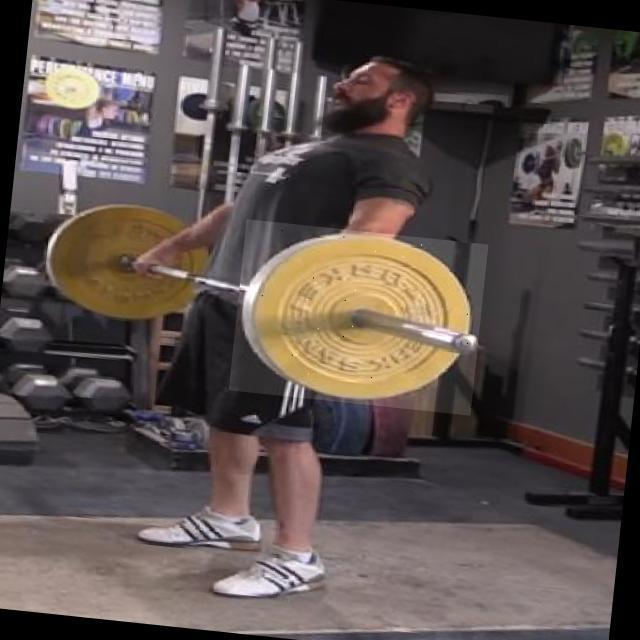barbell: (229, 221, 489, 419)
